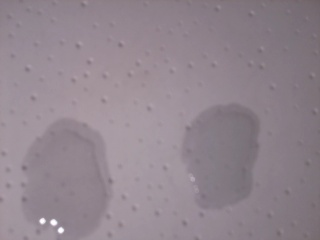Water_detected: (42, 133, 107, 226), (189, 123, 240, 186)
